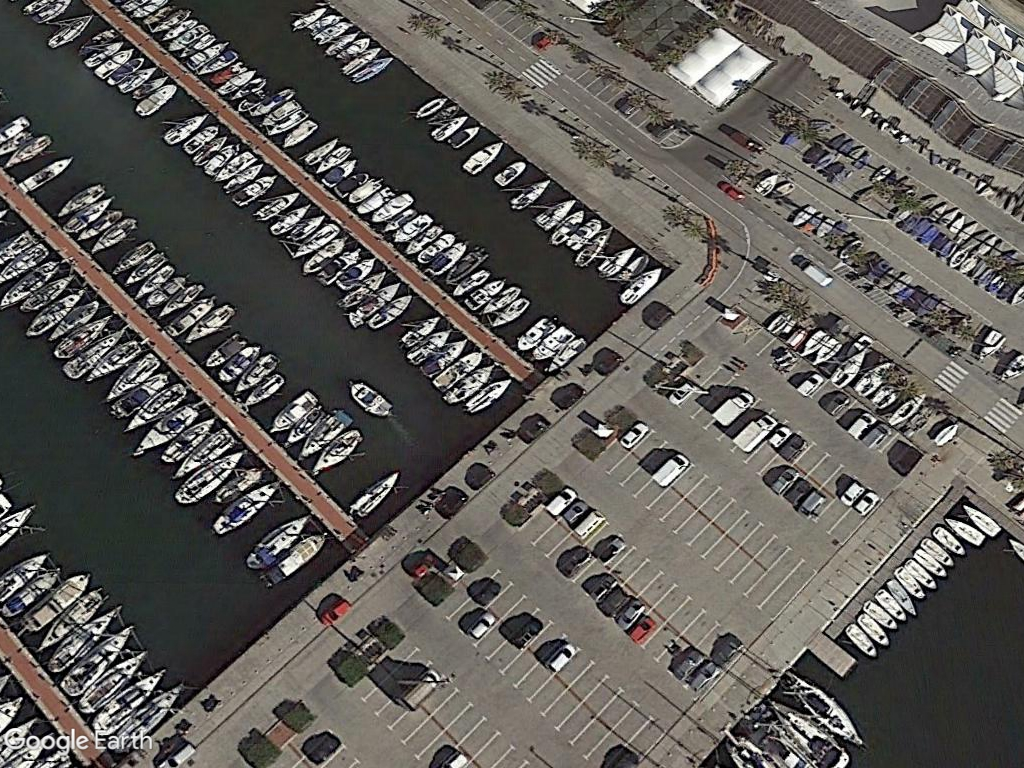boat: (335, 469, 404, 522), (343, 376, 398, 419), (454, 136, 508, 179)
car: (538, 639, 584, 678), (315, 596, 355, 632), (611, 419, 649, 451), (664, 382, 700, 408)
truck: (386, 670, 446, 717), (729, 412, 780, 457), (644, 446, 691, 490), (788, 249, 833, 289), (712, 386, 754, 428)
